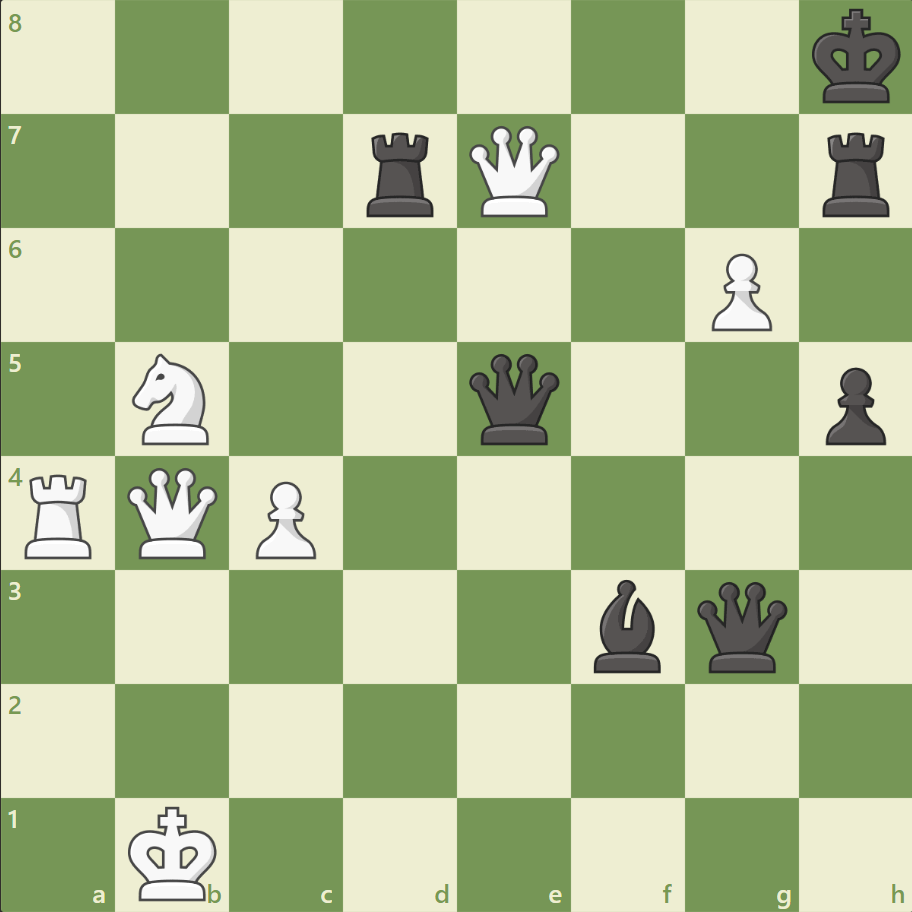K: (124, 798, 224, 906)
N: (124, 348, 222, 450)
P: (701, 246, 776, 337), (247, 473, 322, 564)
Q: (464, 122, 563, 222), (124, 463, 223, 562)
R: (19, 466, 102, 563)
b: (585, 574, 669, 676)
k: (806, 4, 906, 112)
p: (815, 359, 889, 450)
q: (464, 349, 563, 449), (691, 576, 790, 676)
r: (814, 125, 897, 222), (360, 125, 442, 222)
